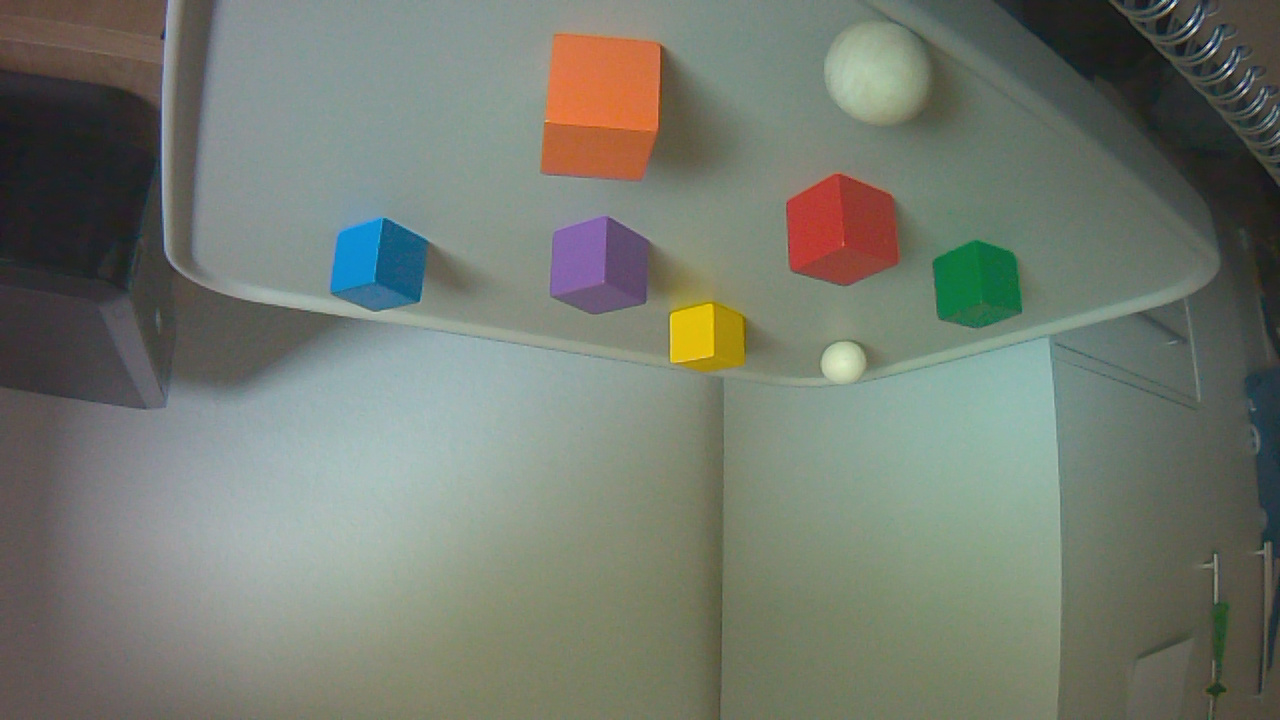ball: (824, 22, 944, 136), (823, 342, 873, 394)
cube_blue: (333, 223, 434, 321)
cube_green: (934, 244, 1028, 337)
cube_orange: (541, 37, 669, 186)
cube_purple: (552, 220, 659, 324)
cube_red: (788, 174, 908, 295)
cube_yellow: (671, 304, 754, 382)
